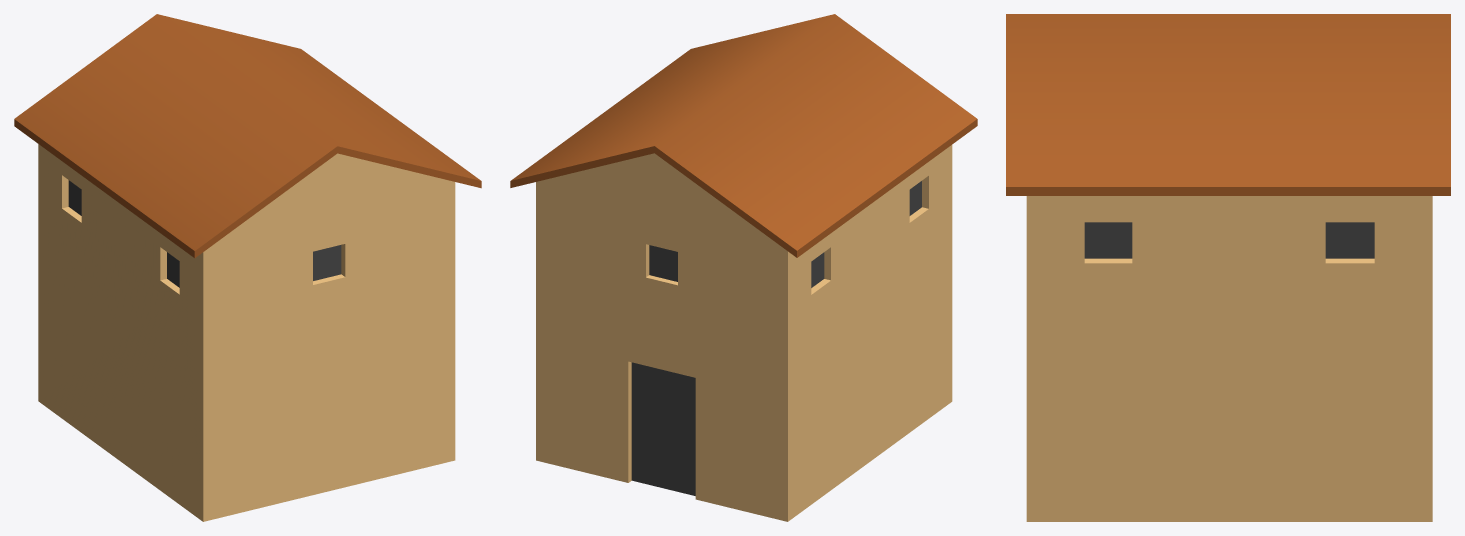
File: Building 01.FBX
3 views of the same model, side by side, from view 1: azimuth 30°, elevation 25°; view 2: azimuth 150°, elevation 25°; view 3: azimuth 270°, elevation 25° (orthographic). The views are drawn at different scales.
Visible parts, largest first — view 1: Box001; view 2: Box001; view 3: Box001.
Boxes of the visible parts, <box> form: Box001: <box>14,14,481,521</box>; Box001: <box>510,14,977,521</box>; Box001: <box>1006,14,1450,521</box>.
Size of the model in its own units: 20.71 by 24.21 by 22.58.
